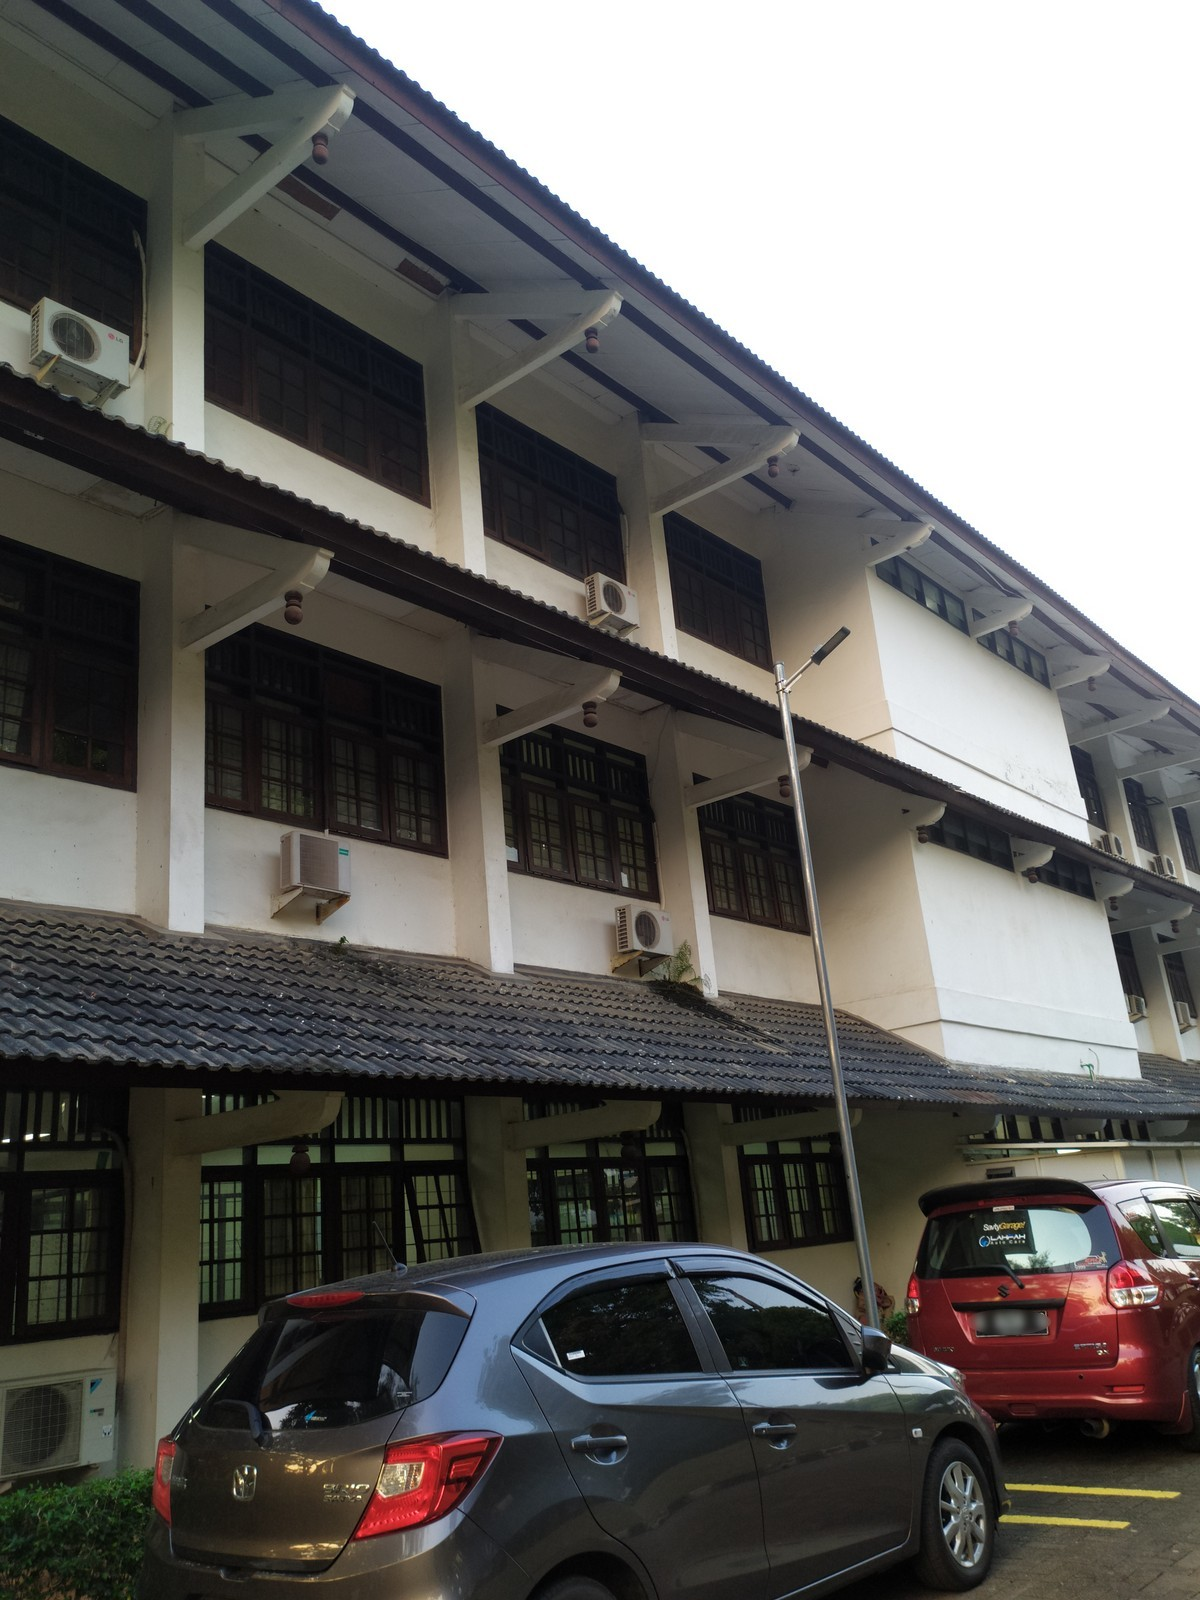concrete beam: (173, 151, 294, 258), (456, 336, 577, 413), (175, 580, 292, 658), (473, 689, 586, 755)
concrete column: (127, 524, 218, 934), (115, 1083, 208, 1439), (437, 634, 527, 976), (139, 110, 221, 443), (645, 724, 725, 997), (415, 300, 494, 569), (613, 425, 684, 655)
